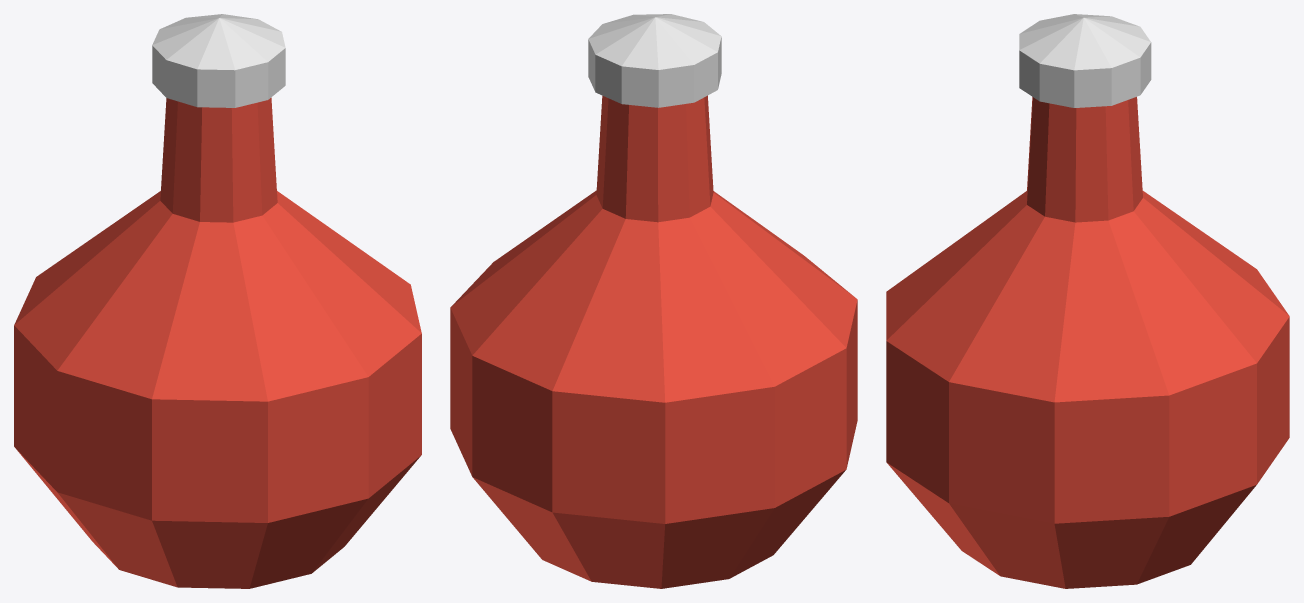
The model's file is bigpotion.fbx.
3 views of the same model, side by side, from view 1: azimuth 30°, elevation 25°; view 2: azimuth 150°, elevation 25°; view 3: azimuth 270°, elevation 25° (orthographic).
Parts seen in each view (by area): view 1: Sphere; view 2: Sphere; view 3: Sphere.
Part boxes in pixels (x1,y1,x2,y2): Sphere: (14,14,421,588); Sphere: (450,14,857,588); Sphere: (886,14,1289,588).
Bounding box in the file's own units: 257 × 360 × 254.
